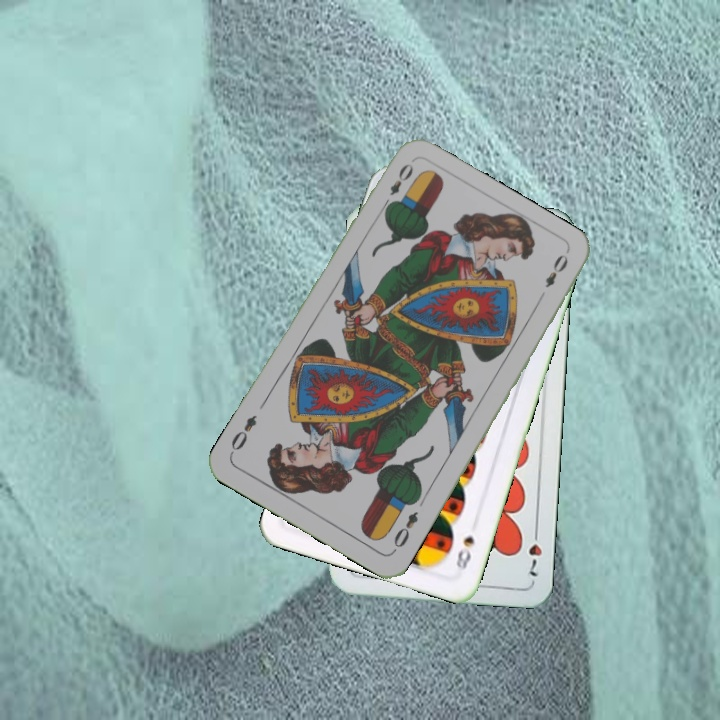EO: (378, 159, 416, 212), (389, 507, 421, 555)
H7: (523, 523, 545, 580)
S8: (452, 532, 477, 578)
